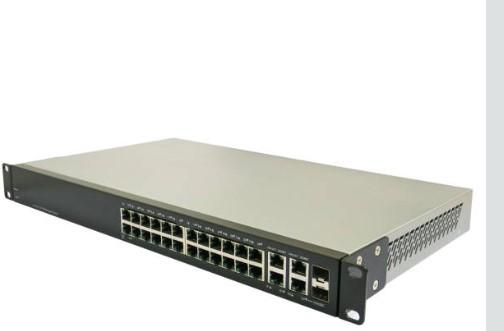NetworkSwitch: (2, 137, 475, 325)
